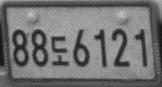1: (133, 27, 148, 67), (93, 27, 107, 68)
2: (110, 27, 132, 67)
6: (72, 28, 90, 66)
8: (11, 28, 29, 67), (31, 29, 48, 67)
도: (50, 35, 69, 65)
